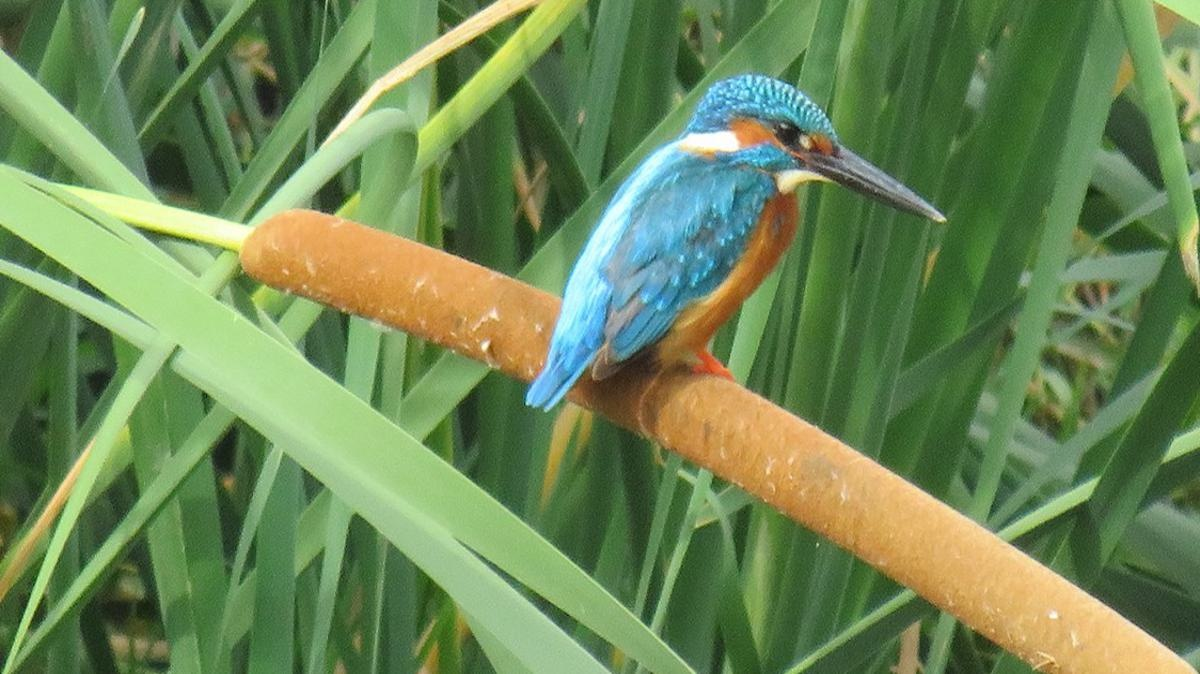kingfisher: (574, 81, 960, 433)
